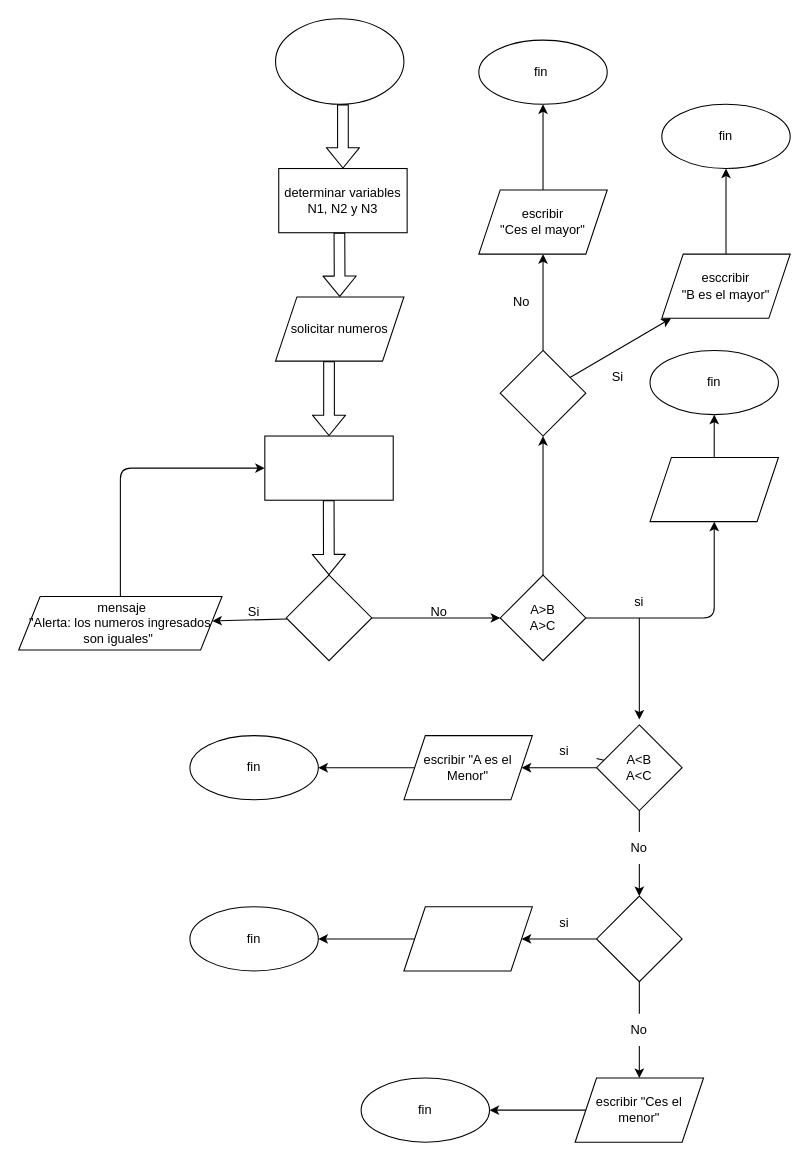
The diagram is 809 pixels wide and 1161 high, and some of its shapes have lost their labels. The shapes that lost their labels are listed below. From the top down, each one's centre as x and y in pixels, then its label:
(x=339, y=61): inicio
(x=542, y=392): B>A B>C
(x=328, y=467): guardar en variables N1, N2 y N3
(x=713, y=489): escribir "A es el mayor"
(x=328, y=617): A == B == C
(x=467, y=938): escribir "B es el menor"
(x=638, y=938): B<A B<C
